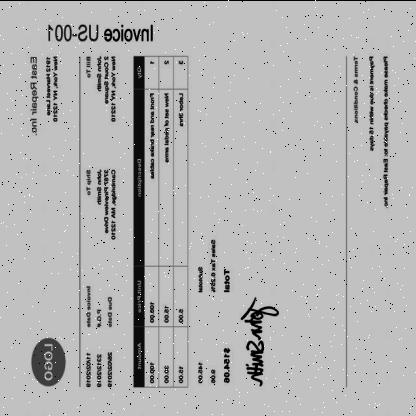Paragraph: (352, 52, 390, 209), (196, 234, 232, 386), (84, 281, 116, 389), (84, 166, 118, 242), (29, 54, 59, 136), (84, 52, 118, 123)
Table: (134, 54, 188, 386)
